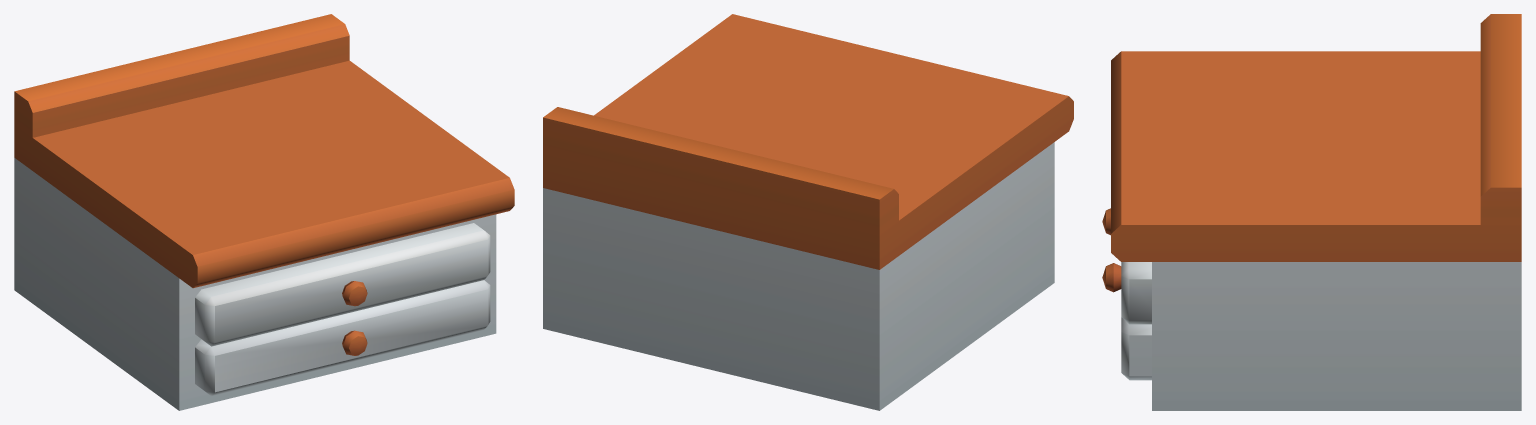
Rendered from base_counter.glb.
3 renders of one model, left to right at view 1: azimuth 30°, elevation 25°; view 2: azimuth 150°, elevation 25°; view 3: azimuth 270°, elevation 25°, orthographic. The views are drawn at different scales.
Visible parts, largest first — view 1: kitchencounter_straight_A_backsplash; view 2: kitchencounter_straight_A_backsplash; view 3: kitchencounter_straight_A_backsplash.
Boxes of the visible parts, box(x1,y1,x2,y2) form: kitchencounter_straight_A_backsplash: box(14, 14, 514, 410); kitchencounter_straight_A_backsplash: box(543, 14, 1073, 410); kitchencounter_straight_A_backsplash: box(1102, 14, 1521, 410).
Bounding box in the file's own units: 2 × 1.2 × 2.04.
Materials: 1 (1 with a texture image).
